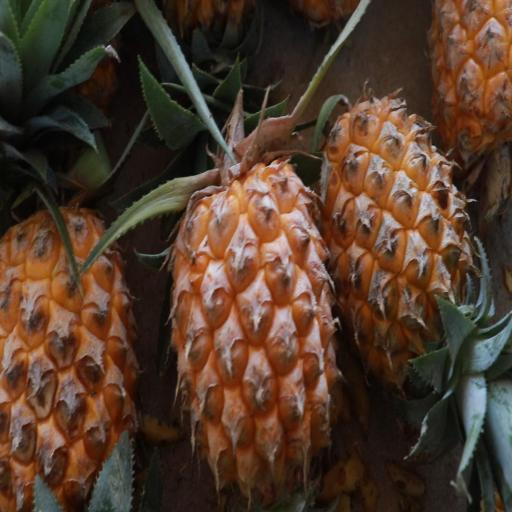Pineapple - v8 v1: (168, 115, 342, 512), (0, 121, 144, 511), (317, 84, 476, 407)
